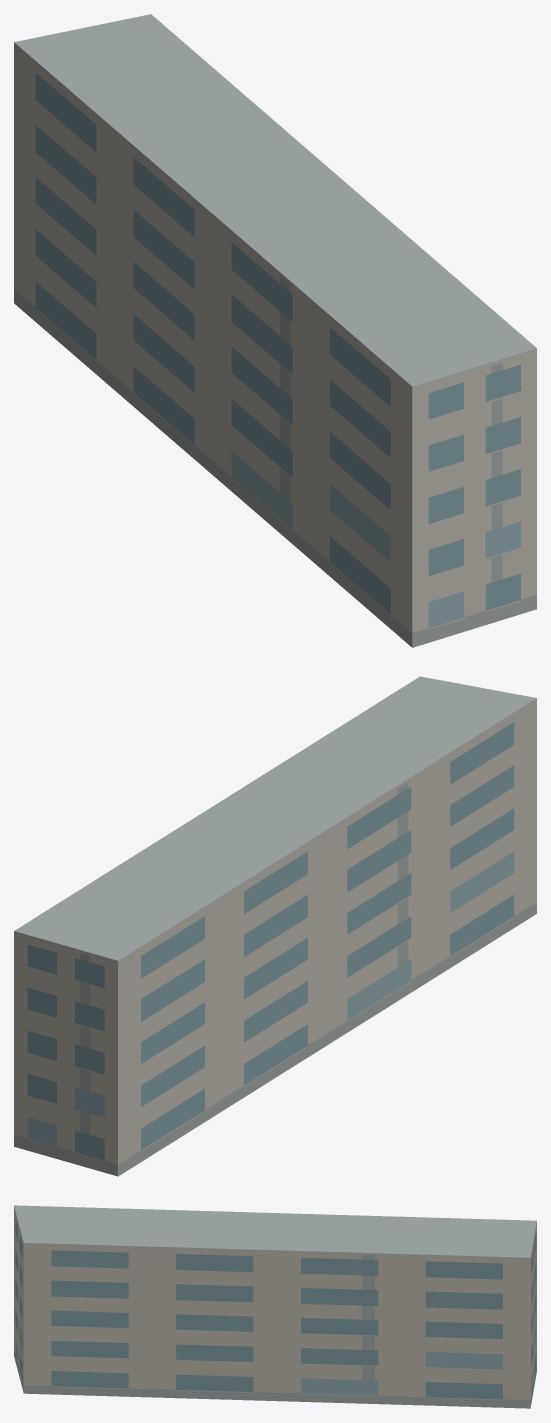
File: survey-upis-32969448.glb
3 views of the same model, one above another, from view 1: azimuth 30°, elevation 25°; view 2: azimuth 150°, elevation 25°; view 3: azimuth 270°, elevation 25° (orthographic). The views are drawn at different scales.
Parts seen in each view (by area): view 1: survey-upis-32969448.tmp; view 2: survey-upis-32969448.tmp; view 3: survey-upis-32969448.tmp.
Part boxes in pixels (x1,y1,x2,y2): survey-upis-32969448.tmp: (14,14,536,647); survey-upis-32969448.tmp: (14,676,536,1176); survey-upis-32969448.tmp: (14,1205,536,1408).
Bounding box in the file's own units: 11.37 × 15.25 × 47.92.
